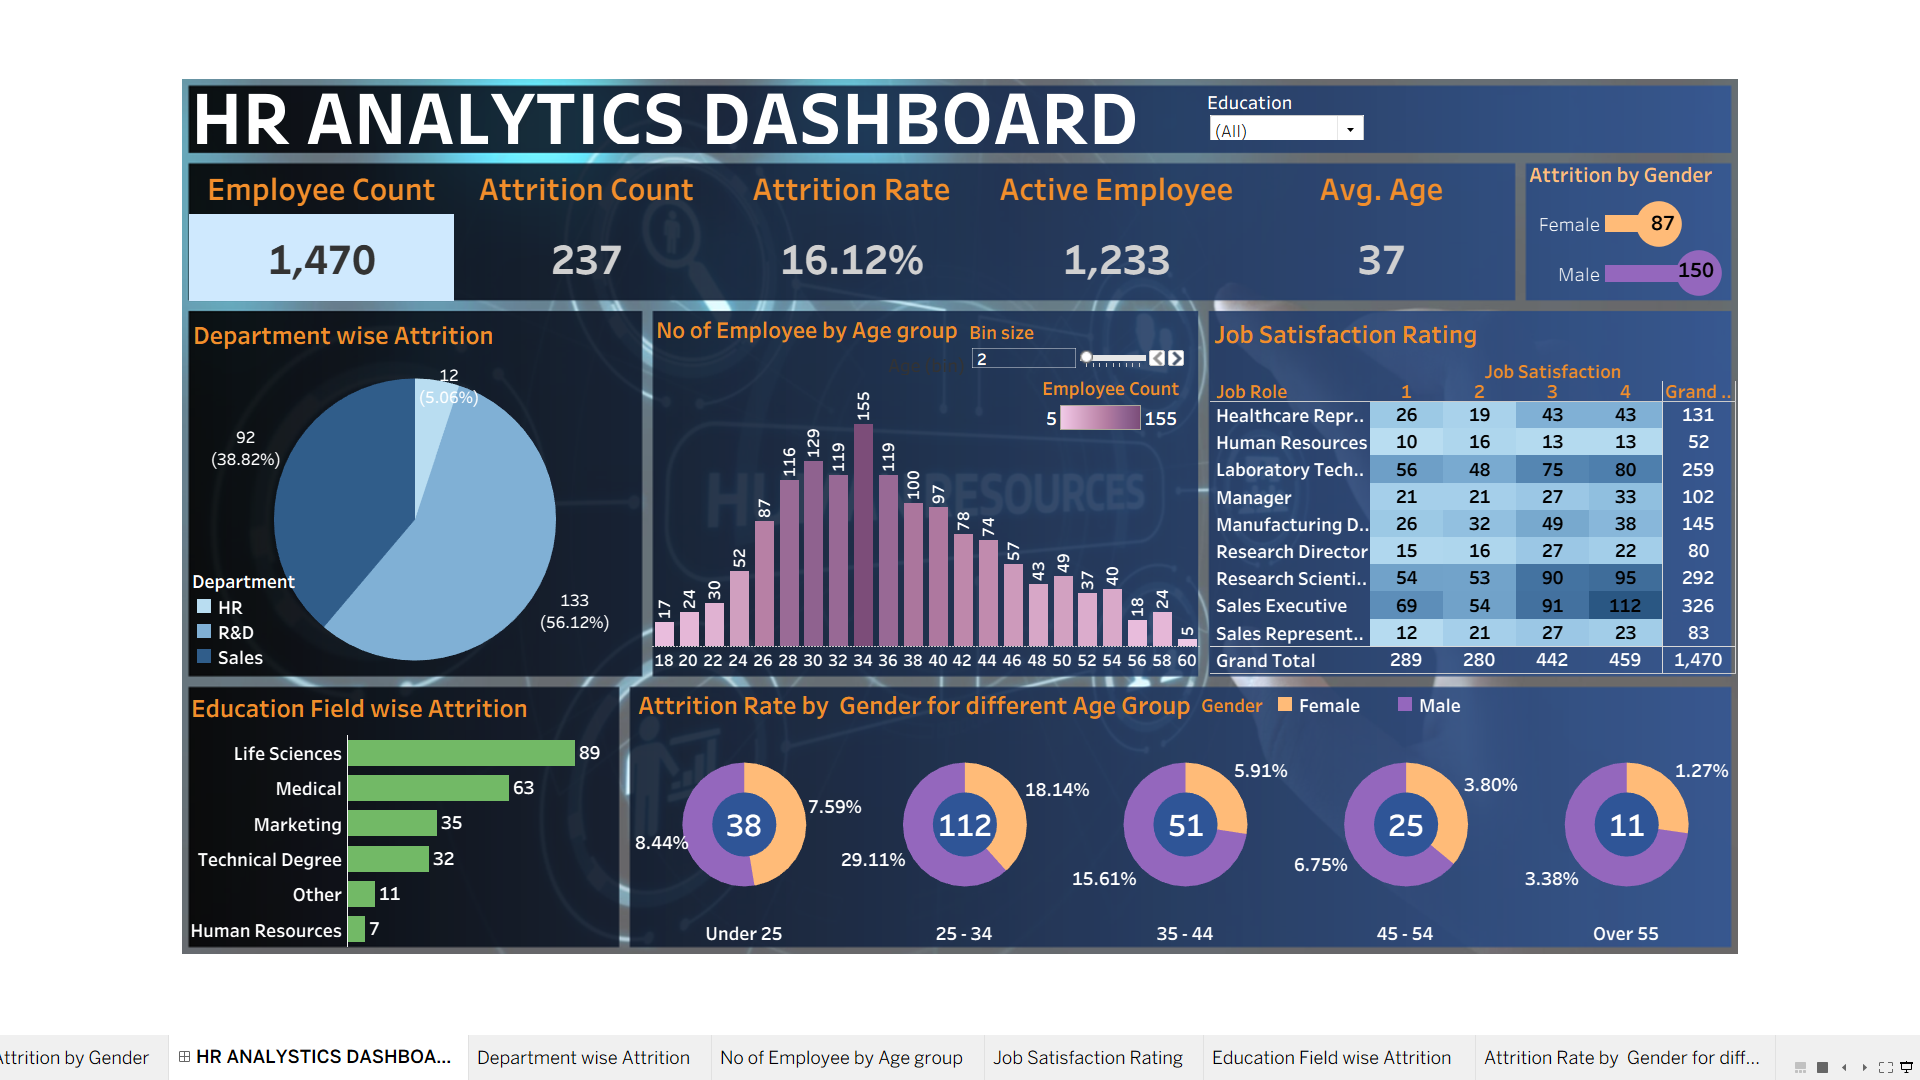

Layout of this report page (visuals, bound fields, positions):
{"tool":"tableau","page":{"name":"HR ANALYSTICS DASHBOARD","canvas":[1580,900],"ordinal":0},"visuals":[{"type":"image","param":"Image/HR background.pptx.png","box":[8,8,1564,884]},{"type":"text","box":[17,21,1370,56]},{"type":"filter","title":"Department wise Attrition","param":"[federated.0ky5jf81abcjas16vw1f80sc3qqz].[none:Education:nk]","box":[1037,22,160,51]},{"type":"worksheet","title":"Attrition by Gender","mark":"Automatic","rows":["Gender"],"cols":["Calculation_0628976286298112","Calculation_0628976286298112"],"box":[1355,89,211,142]},{"type":"worksheet","title":"KPI","mark":"Automatic","box":[19,95,1325,139]},{"type":"worksheet","title":"No of Employee by Age group","mark":"Automatic","rows":["Employee Count"],"cols":["Age (bin)"],"box":[482,243,548,362]},{"type":"worksheet","title":"Job Satisfaction Rating","mark":"Square","rows":["Job Role"],"cols":["Job Satisfaction"],"box":[1040,246,526,361]},{"type":"worksheet","title":"Department wise Attrition","mark":"Pie","box":[19,247,452,363]},{"type":"parameter","param":"[Parameters].[Parameter 0628976324182022]","box":[799,252,218,74]},{"type":"legend","title":"No of Employee by Age group","param":"[federated.0ky5jf81abcjas16vw1f80sc3qqz].[sum:Employee Count:qk]","box":[872,308,140,100]},{"type":"legend","title":"Department wise Attrition","param":"[federated.0ky5jf81abcjas16vw1f80sc3qqz].[none:Department:nk]","box":[22,501,140,101]},{"type":"worksheet","title":"Attrition Rate by  Gender for different Age Group","mark":"Pie","rows":["Calculation_0628976345407502","Calculation_0628976345407502"],"cols":["CF_age band"],"box":[464,617,1103,262]},{"type":"worksheet","title":"Education Field wise Attrition","mark":"Automatic","rows":["Education Field"],"cols":["Calculation_0628976286298112"],"box":[17,620,432,260]},{"type":"legend","title":"Attrition Rate by  Gender for different Age Group","param":"[federated.0ky5jf81abcjas16vw1f80sc3qqz].[none:Gender:nk]","box":[1031,625,367,46]}]}

Visuals, with their boxes on the page's 1580x900 design canvas (x1, y1, x2, y2). These are canvas units, not pixel positions in the 1920x1080 screenshot, which may show the page scaled, cropped or inside an application window:
image: [x1=8, y1=8, x2=1572, y2=892]
text: [x1=17, y1=21, x2=1387, y2=77]
"Department wise Attrition" filter: [x1=1037, y1=22, x2=1197, y2=73]
"Attrition by Gender" worksheet: [x1=1355, y1=89, x2=1566, y2=231]
"KPI" worksheet: [x1=19, y1=95, x2=1344, y2=234]
"No of Employee by Age group" worksheet: [x1=482, y1=243, x2=1030, y2=605]
"Job Satisfaction Rating" worksheet (Square marks): [x1=1040, y1=246, x2=1566, y2=607]
"Department wise Attrition" worksheet (Pie marks): [x1=19, y1=247, x2=471, y2=610]
parameter: [x1=799, y1=252, x2=1017, y2=326]
"No of Employee by Age group" legend: [x1=872, y1=308, x2=1012, y2=408]
"Department wise Attrition" legend: [x1=22, y1=501, x2=162, y2=602]
"Attrition Rate by  Gender for different Age Group" worksheet (Pie marks): [x1=464, y1=617, x2=1567, y2=879]
"Education Field wise Attrition" worksheet: [x1=17, y1=620, x2=449, y2=880]
"Attrition Rate by  Gender for different Age Group" legend: [x1=1031, y1=625, x2=1398, y2=671]
